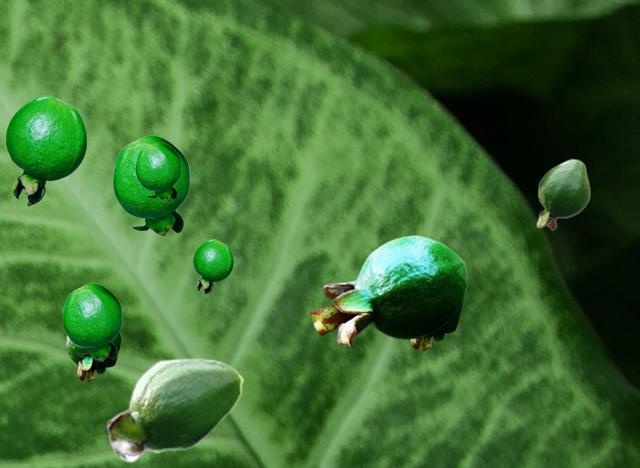guava: (309, 234, 467, 347), (106, 357, 243, 462), (5, 95, 86, 205), (112, 135, 189, 235), (62, 283, 121, 360), (536, 158, 589, 230), (135, 142, 180, 200), (66, 333, 120, 381), (409, 305, 462, 350), (193, 239, 232, 293)
